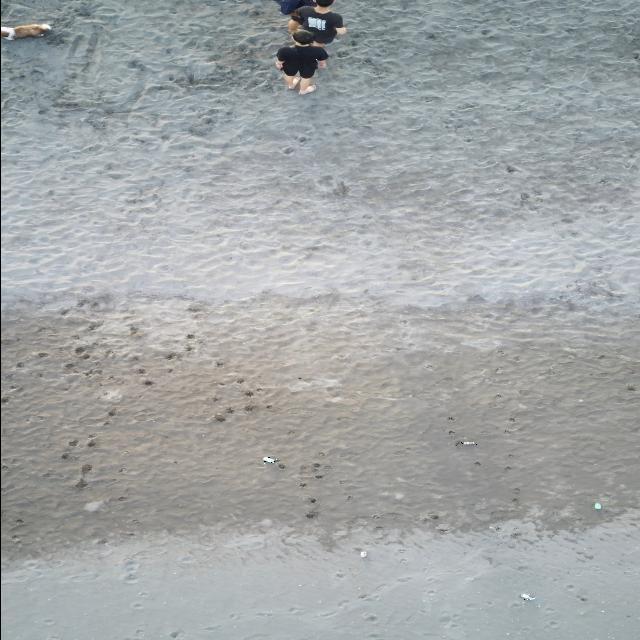Garbage: (84, 500, 103, 511), (520, 592, 535, 600), (264, 455, 278, 463), (455, 440, 476, 444), (593, 502, 600, 510), (360, 550, 367, 557), (278, 463, 284, 467)
